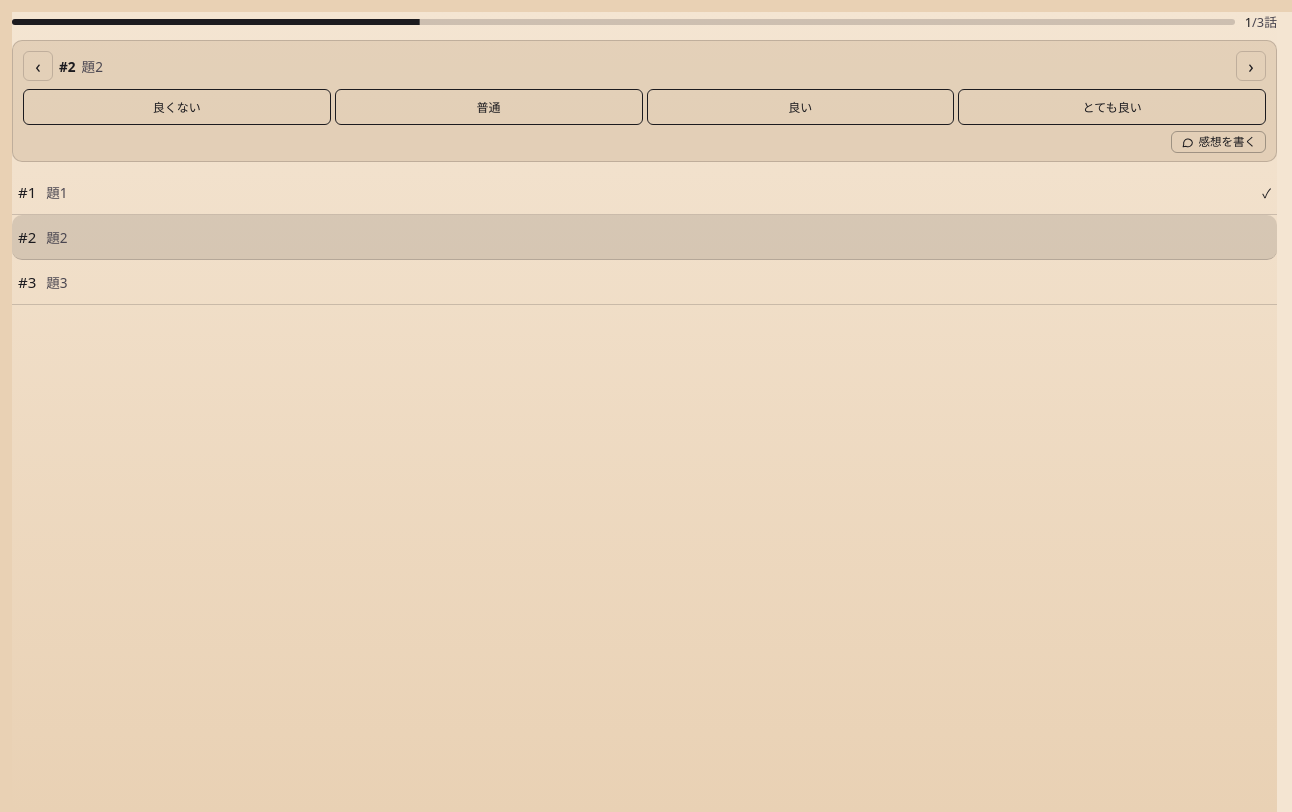
Test case: EpisodeRecorder › starts at the next episode and, after rating it, moves to the following one in the same place
Click the button "良い" at {"x": 800, "y": 108}, box [646,90,954,126]
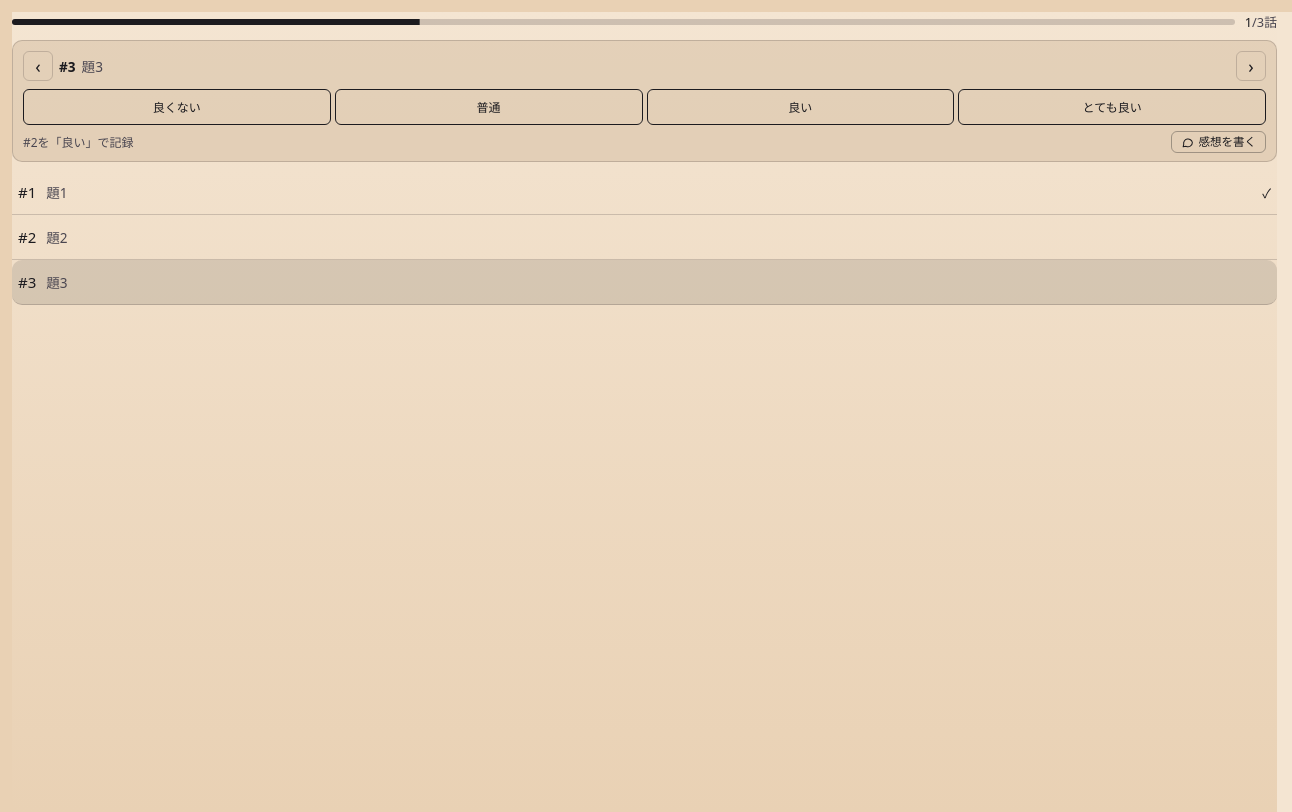
expect the text "#2を「良い」で記録" is shown: met, box [23,134,134,151]
